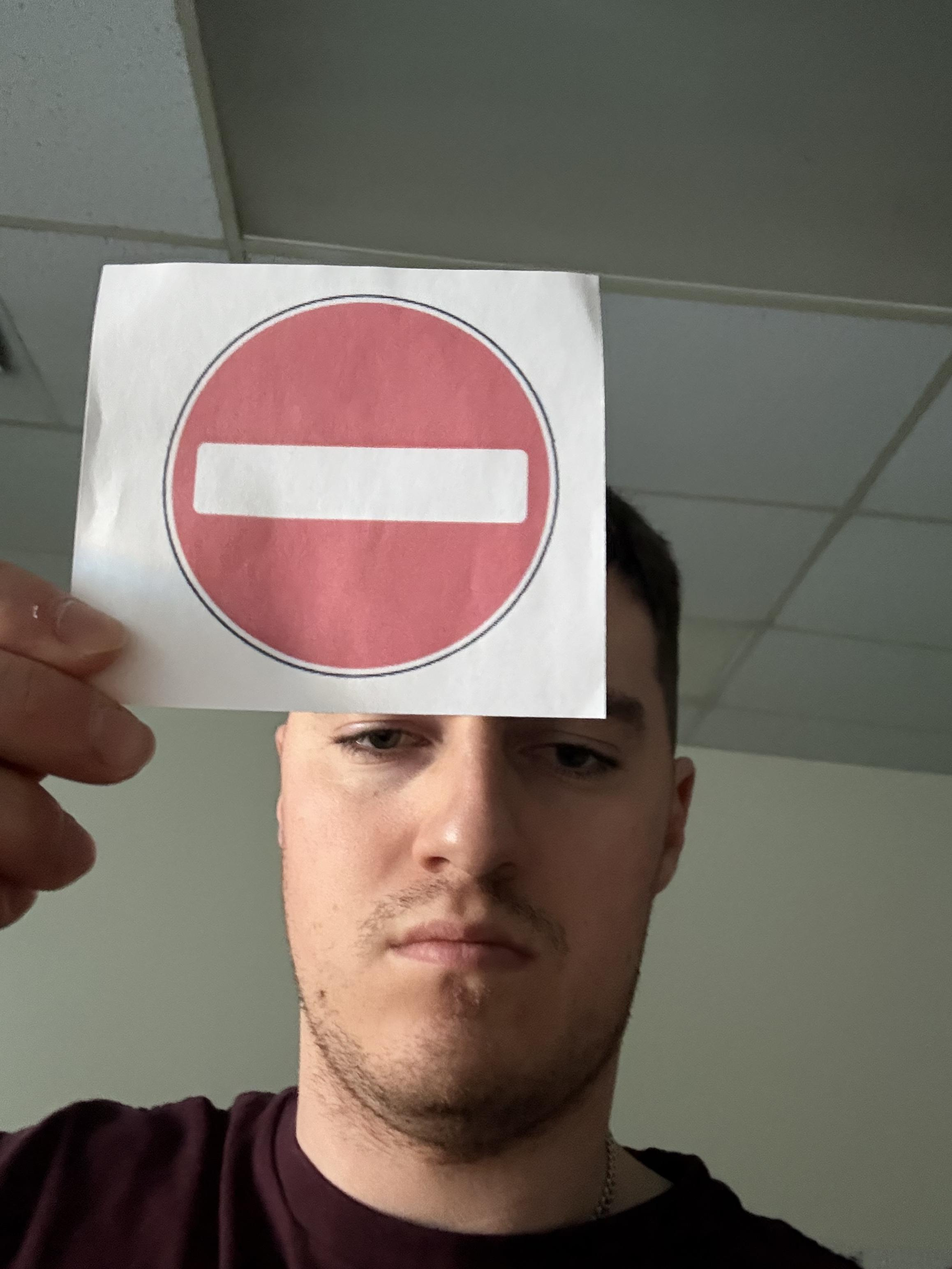No Entry: (54, 353, 459, 954)
